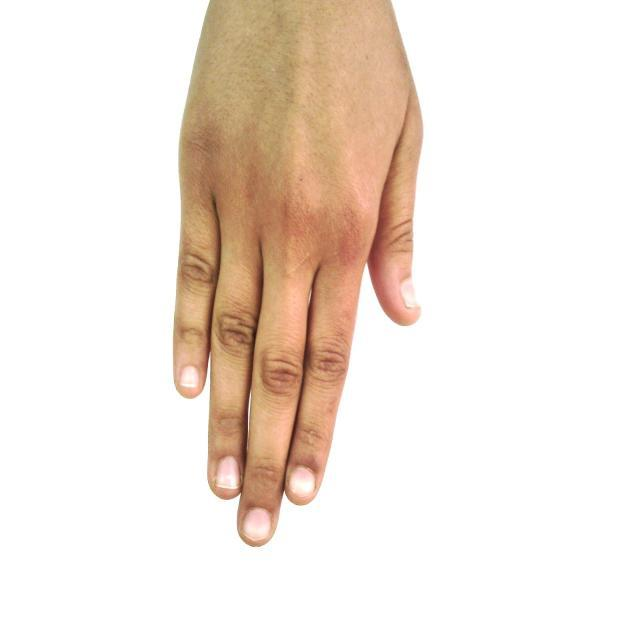Fingernail: (244, 508, 271, 540), (290, 467, 315, 496), (216, 457, 239, 488), (402, 278, 418, 308), (180, 367, 200, 388)
